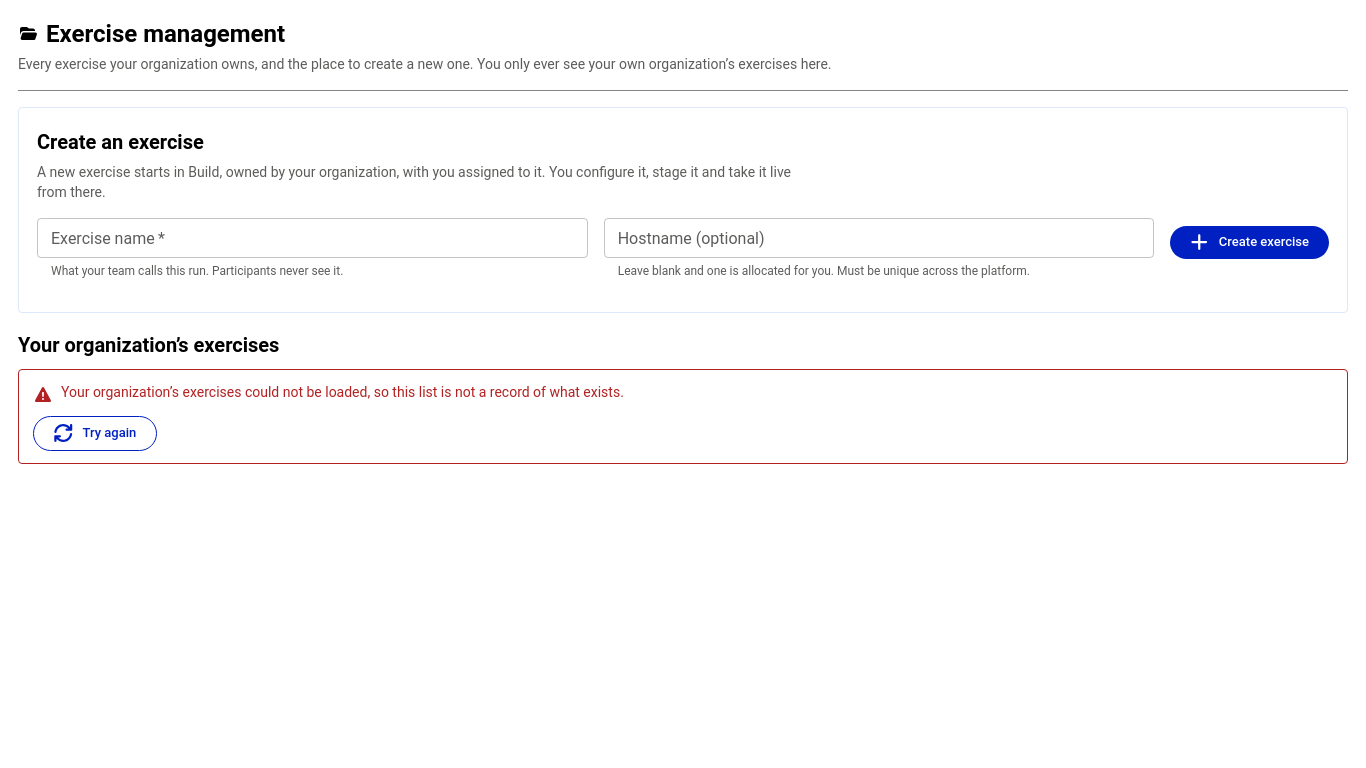
it: ExerciseManagementPage — the four read states › ERROR offers a retry that actually re-reads
Check: the message with test id "org-exercises-error" is shown, box x1=18 y1=369 x2=1348 y2=464
Click the button "Try again" at (95, 433), box x1=33 y1=416 x2=157 y2=451
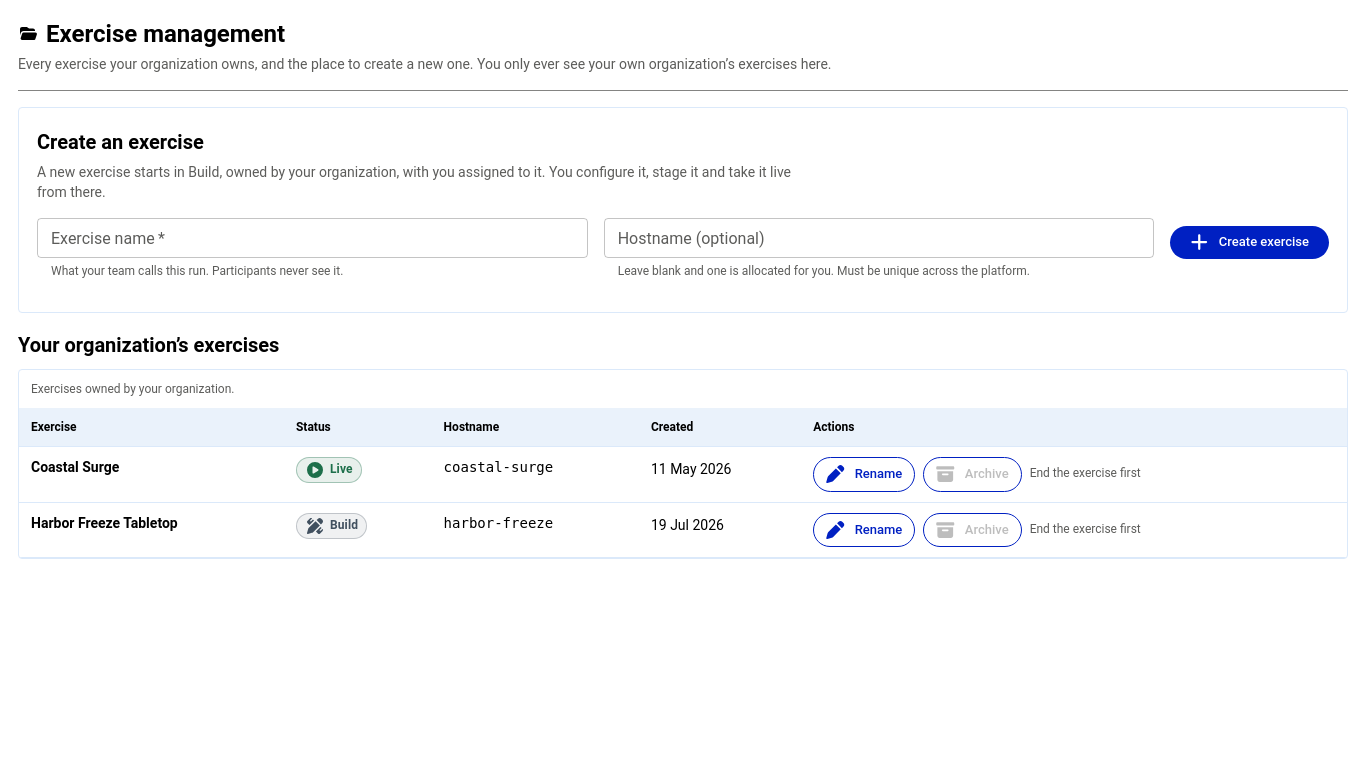
Check: the table with test id "org-exercise-table" is shown, box x1=19 y1=370 x2=1347 y2=558
